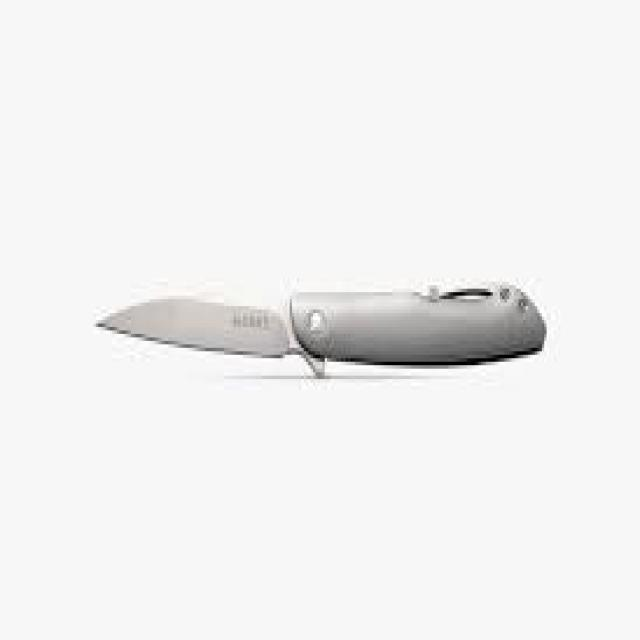knives: (91, 271, 549, 386)
